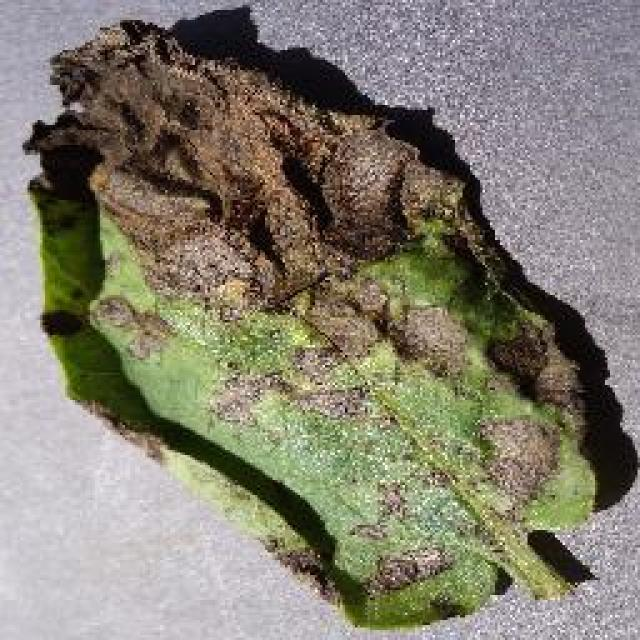early_blight: (20, 7, 608, 635)
